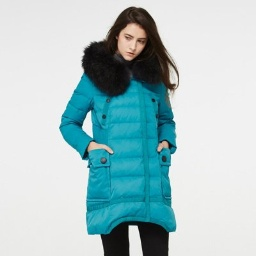face: (103, 5, 170, 77)
